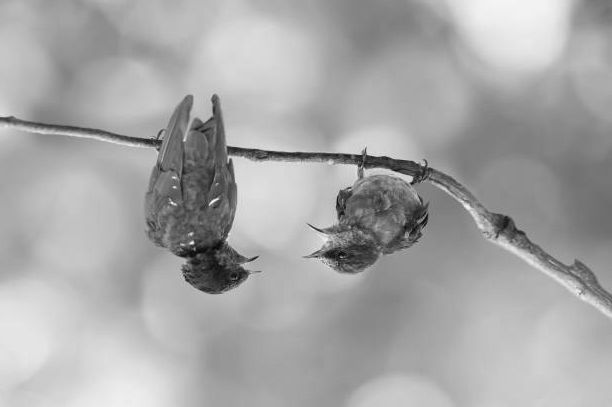Bird: (138, 89, 267, 296), (298, 143, 429, 275)
